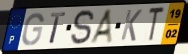A: (88, 8, 114, 45)
G: (20, 12, 45, 47)
K: (119, 9, 143, 43)
S: (69, 9, 96, 47)
T: (147, 6, 166, 44), (48, 11, 68, 45)
